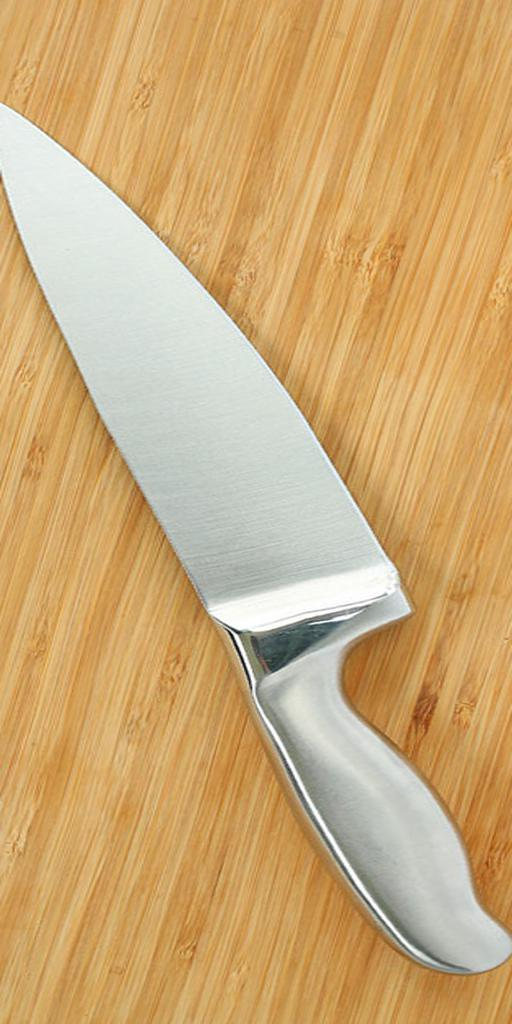knife: (1, 99, 512, 976)
